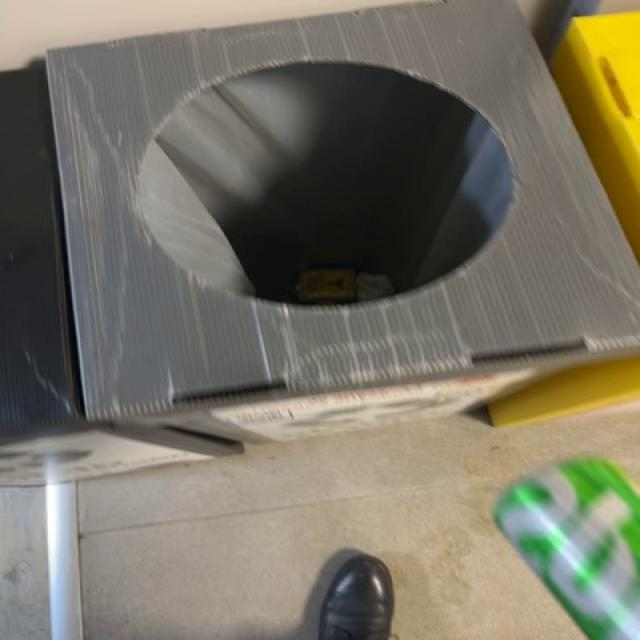bin: (47, 0, 636, 420)
metal: (495, 458, 640, 640)
